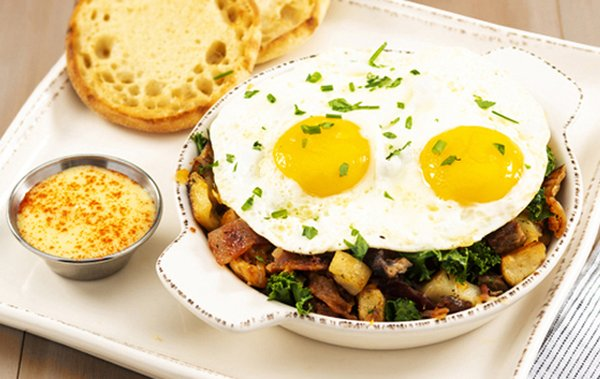curry: (265, 270, 316, 315)
soup: (175, 32, 558, 323)
sushi: (106, 23, 600, 361), (4, 153, 164, 281)
